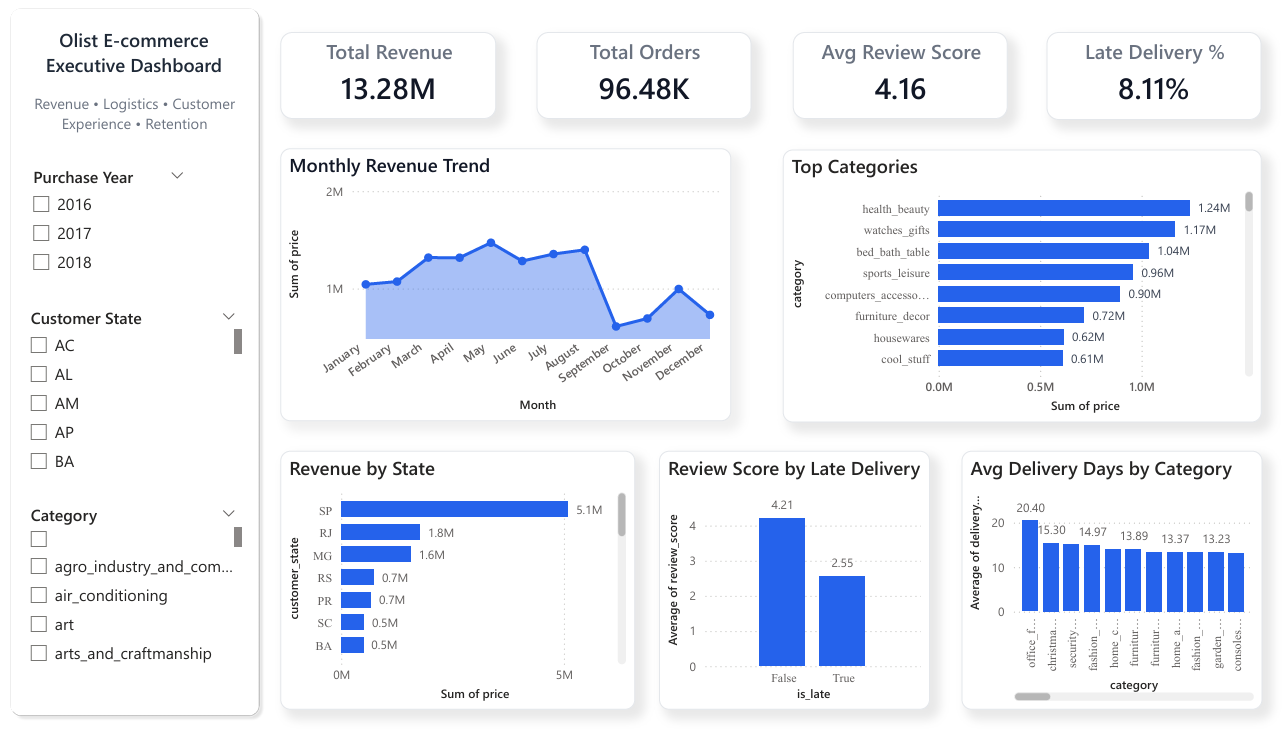

The dashboard page shown, as its layout file describes it:
{"tool":"powerbi","page":{"name":"Page 1","canvas":[1280,720],"ordinal":0},"visuals":[{"type":"shape","box":[0,0,262.1,720.4],"z":0},{"type":"card","title":"Total Revenue","fields":{"Values":["olist_dashboard_dataset.Total Revenue"]},"box":[276.4,30.6,216.4,86.8],"z":1000},{"type":"card","title":"Total Orders","fields":{"Values":["olist_dashboard_dataset.Total Orders"]},"box":[531.9,30.6,215.2,86.8],"z":2000},{"type":"card","title":"Avg Review Score","fields":{"Values":["olist_dashboard_dataset.Avg Review Score"]},"box":[788.7,30.6,215.2,86.8],"z":3000},{"type":"lineChart","title":"Monthly Revenue Trend","fields":{"Y":["Sum(olist_dashboard_dataset.price)"],"Category":["olist_dashboard_dataset.purchase_month.Variation.Date Hierarchy.Month"]},"box":[276.4,146.7,451.2,272.7],"z":4000},{"type":"barChart","title":"Top Categories","fields":{"Category":["olist_dashboard_dataset.category"],"Y":["Sum(olist_dashboard_dataset.price)"]},"box":[778.9,148,479.4,272.7],"z":5000},{"type":"barChart","title":"Revenue by State","fields":{"Category":["olist_dashboard_dataset.customer_state"],"Y":["Sum(olist_dashboard_dataset.price)"]},"box":[276.4,448.8,354.6,259.2],"z":6000},{"type":"columnChart","title":"Review Score by Late Delivery","fields":{"Category":["olist_dashboard_dataset.is_late"],"Y":["Avg(olist_dashboard_dataset.review_score)"]},"box":[655.4,448.8,271.5,259.2],"z":7000},{"type":"columnChart","title":"Avg Delivery Days by Category","fields":{"Category":["olist_dashboard_dataset.category"],"Y":["Avg(olist_dashboard_dataset.delivery_days)"]},"box":[957.5,448.8,301.2,258.8],"z":8000},{"type":"slicer","title":"Revenue by State","fields":{"Values":["olist_dashboard_dataset.purchase_year"]},"box":[15.9,158.7,176.1,132.1],"z":9000},{"type":"slicer","title":"Revenue by State","fields":{"Values":["olist_dashboard_dataset.customer_state"]},"box":[13.5,300.6,229.9,174.9],"z":10000},{"type":"slicer","title":"Revenue by State","fields":{"Values":["olist_dashboard_dataset.category"]},"box":[13.8,497.5,230,171.2],"z":11000},{"type":"textbox","box":[15,20,230,68.8],"z":12000},{"type":"textbox","box":[15.9,85.9,228.7,51.4],"z":13000},{"type":"card","title":"Late Delivery %","fields":{"Values":["olist_dashboard_dataset.Late Delivery %"]},"box":[1042.5,30,215,87.5],"z":13001}]}

Visuals, with their boxes in screenshot pixels (x1, y1, x2, y2), scaled from the page's 1280x720 canvas onto the 1283x737 screenshot:
shape: [0,0,263,736]
"Total Revenue" card: [277,31,494,120]
"Total Orders" card: [533,31,749,120]
"Avg Review Score" card: [791,31,1006,120]
"Monthly Revenue Trend" lineChart: [277,150,729,429]
"Top Categories" barChart: [781,151,1261,431]
"Revenue by State" barChart: [277,459,632,725]
"Review Score by Late Delivery" columnChart: [657,459,929,725]
"Avg Delivery Days by Category" columnChart: [960,459,1262,724]
"Revenue by State" slicer: [16,162,192,298]
"Revenue by State" slicer: [14,308,244,487]
"Revenue by State" slicer: [14,509,244,684]
textbox: [15,20,246,91]
textbox: [16,88,245,141]
"Late Delivery %" card: [1045,31,1260,120]
